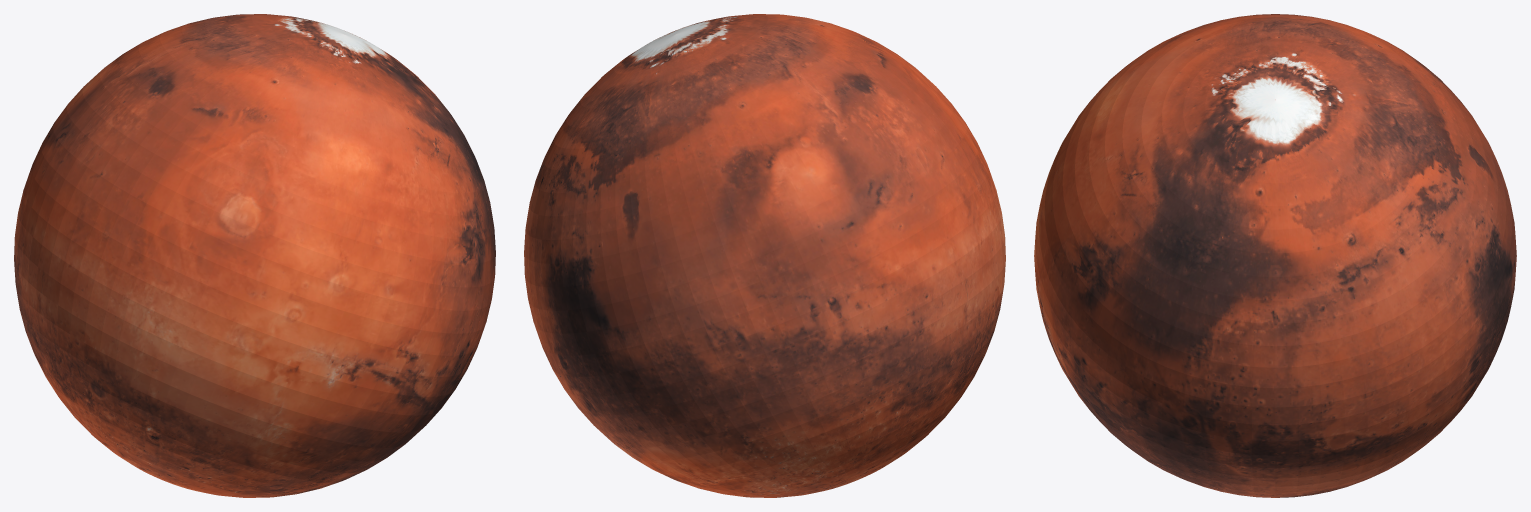
File: mars.glb
The picture shows the model from 3 angles, left to right: view 1: azimuth 30°, elevation 25°; view 2: azimuth 150°, elevation 25°; view 3: azimuth 270°, elevation 25°; orthographic projection.
Parts seen in each view (by area): view 1: Sphere; view 2: Sphere; view 3: Sphere.
Boxes of the visible parts, x1,y1,x2,y2 form: Sphere: [14, 14, 495, 497]; Sphere: [524, 14, 1005, 497]; Sphere: [1034, 14, 1516, 497].
Size of the model in its own units: 1.97 by 1.98 by 1.97.
Materials: 1 (1 with a texture image).
